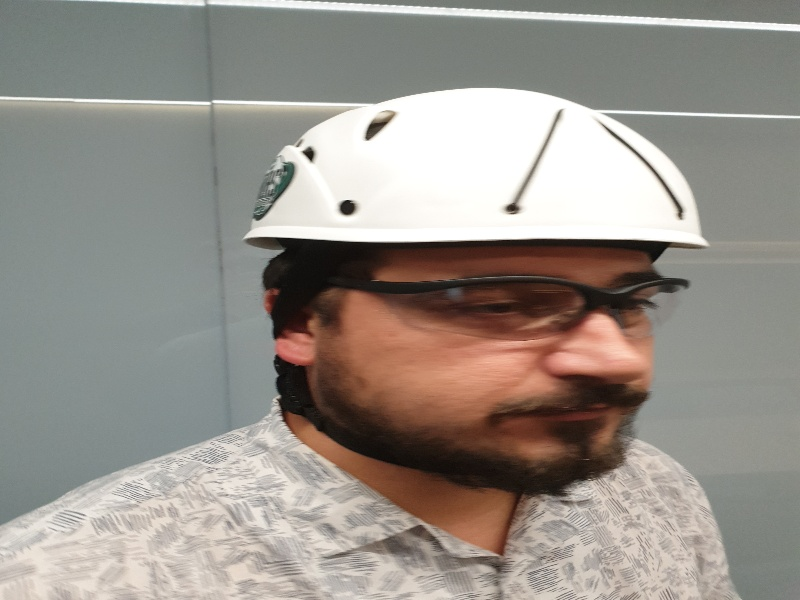Baret: (244, 88, 708, 248)
Gozluk: (327, 275, 693, 341)
